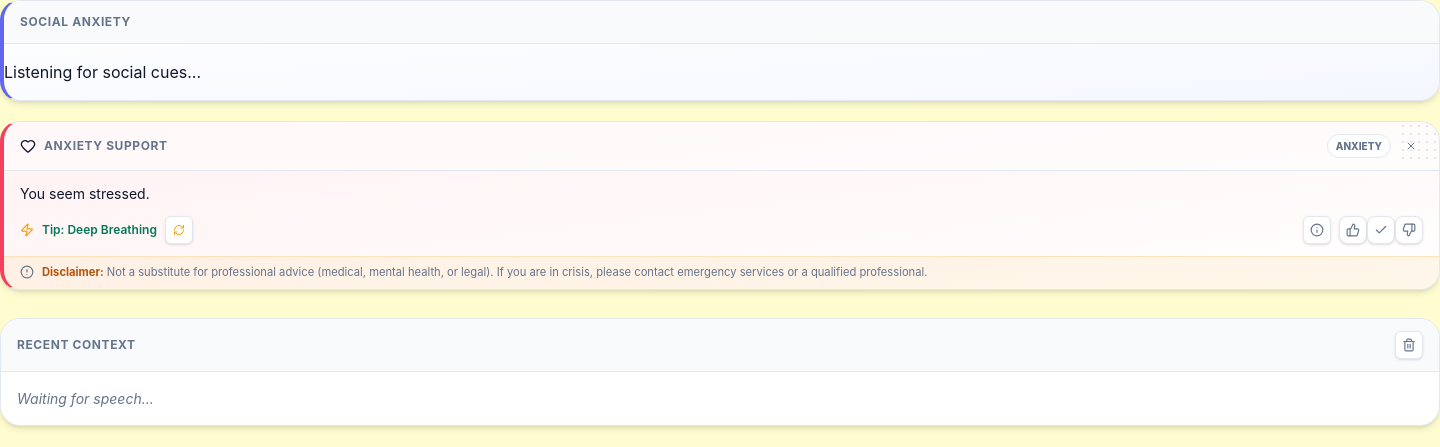
CoachingInsights functionality › allows cycling through multiple coping tips
Expected: the text "Tip: Deep Breathing" is shown, x1=42 y1=221 x2=157 y2=239
Click the button named "Next tip".
click(179, 230)  # box x1=165 y1=216 x2=193 y2=244
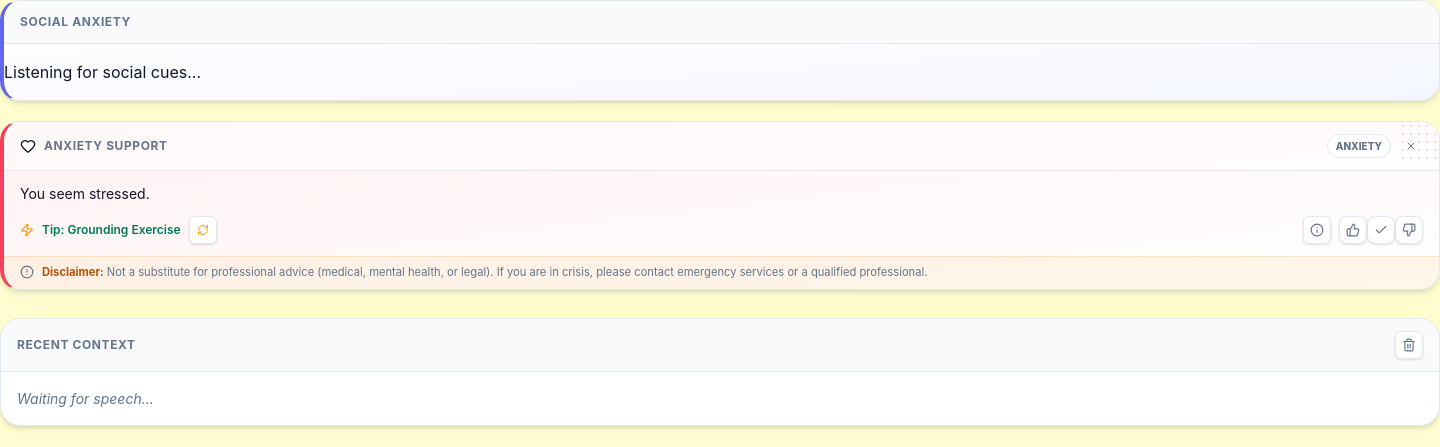
Expected: the text "Tip: Grounding Exercise" is shown, x1=42 y1=221 x2=181 y2=239
Click the button named "Next tip".
click(203, 230)  # box x1=189 y1=216 x2=217 y2=244
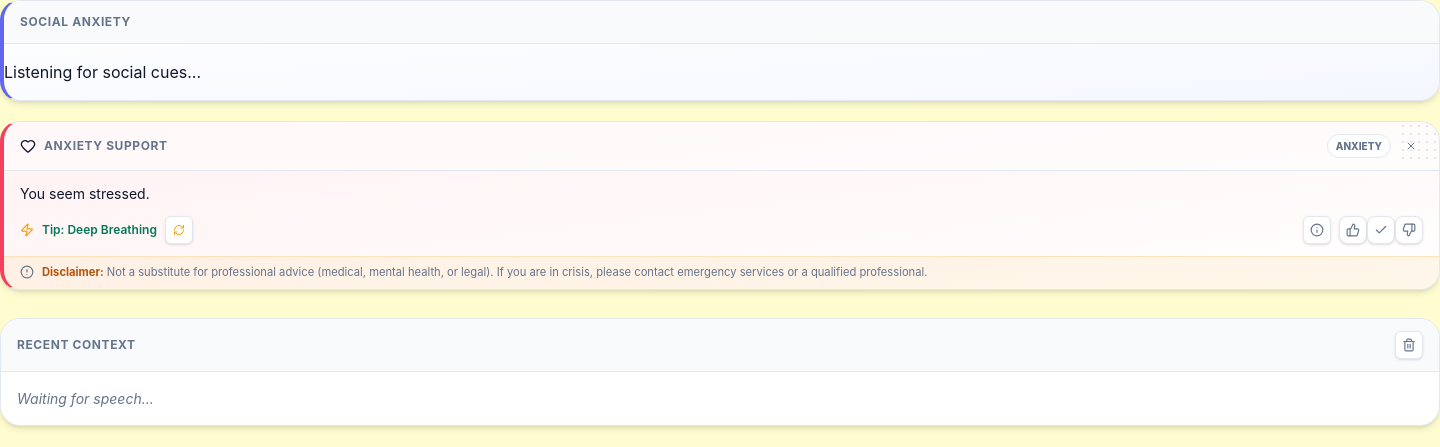
Expected: the text "Tip: Deep Breathing" is shown, x1=42 y1=221 x2=157 y2=239
